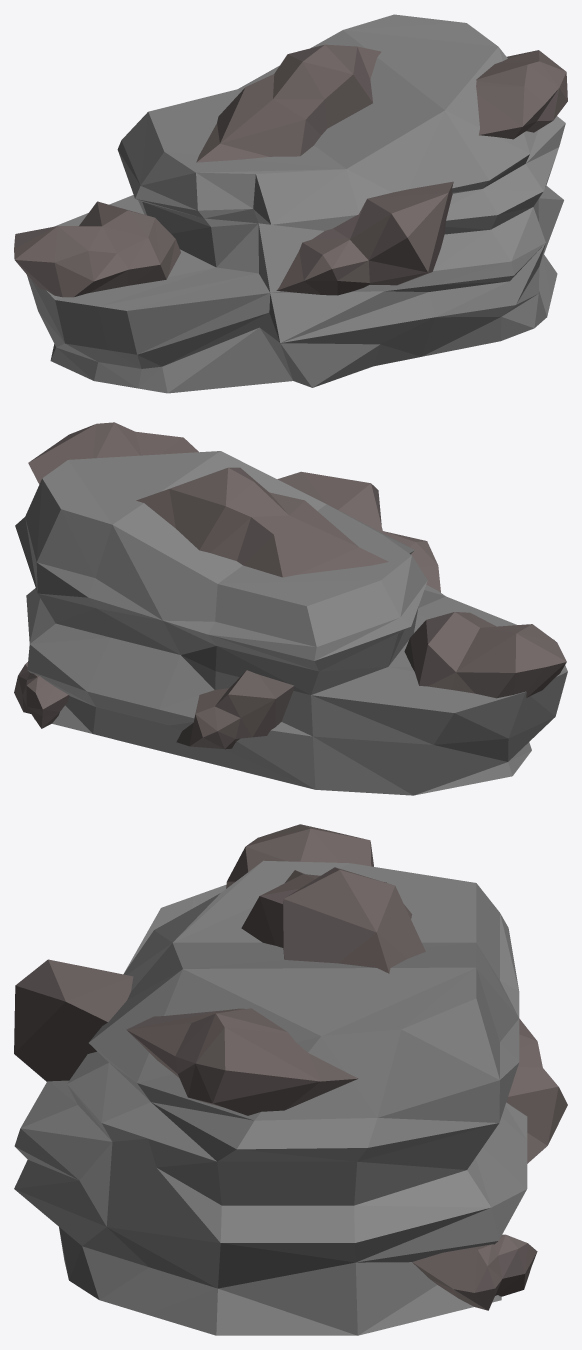
The model's file is _stone_4.fbx.
3 renders of one model, top to bottom at view 1: azimuth 30°, elevation 25°; view 2: azimuth 150°, elevation 25°; view 3: azimuth 270°, elevation 25°, orthographic. The views are drawn at different scales.
Parts seen in each view (by area): view 1: stone_4; view 2: stone_4; view 3: stone_4.
Boxes of the visible parts, box(x1,y1,x2,y2) form: stone_4: box(14, 14, 567, 393); stone_4: box(14, 422, 567, 795); stone_4: box(14, 824, 567, 1335).
Size of the model in its own units: 190 by 83.28 by 123.
